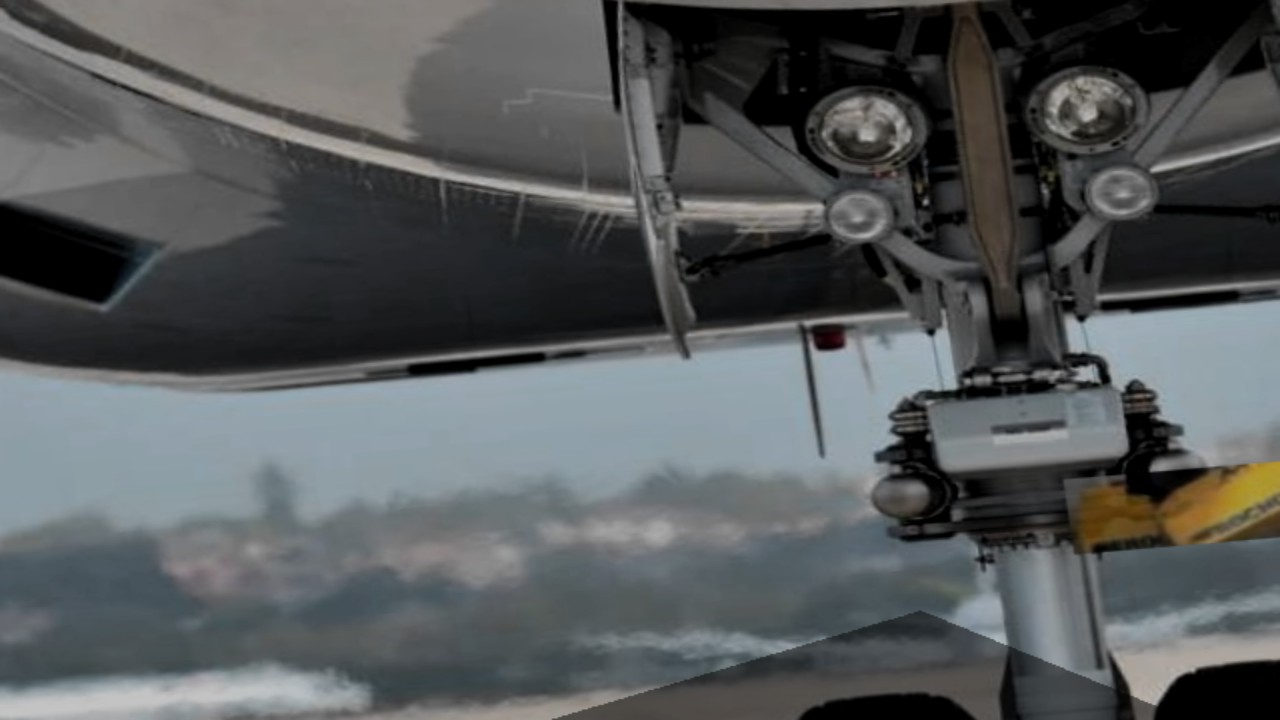chock: (1063, 452, 1280, 555)
